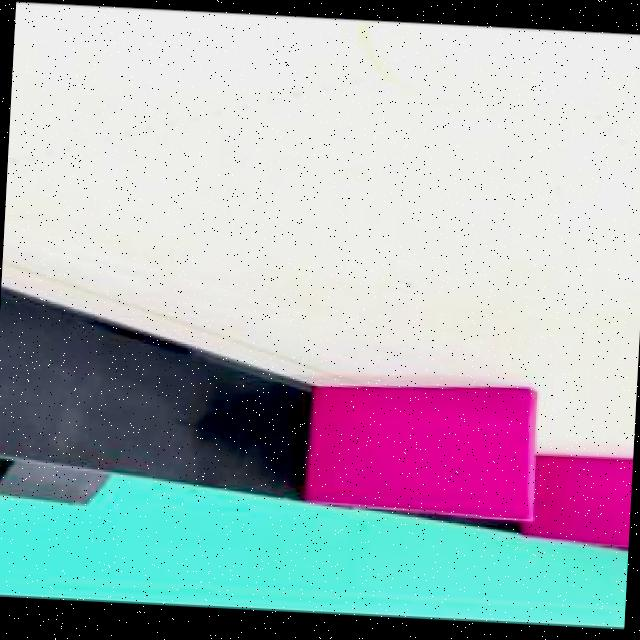xparking: (310, 376, 532, 512), (534, 453, 633, 542)
